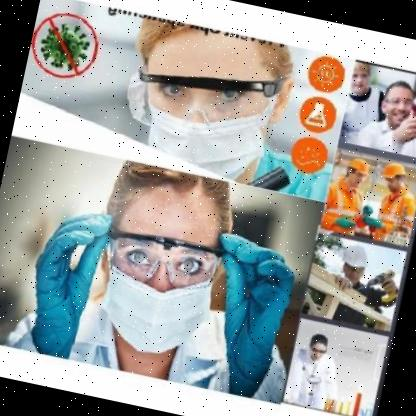oculos: (108, 41, 292, 151), (90, 213, 231, 307)
